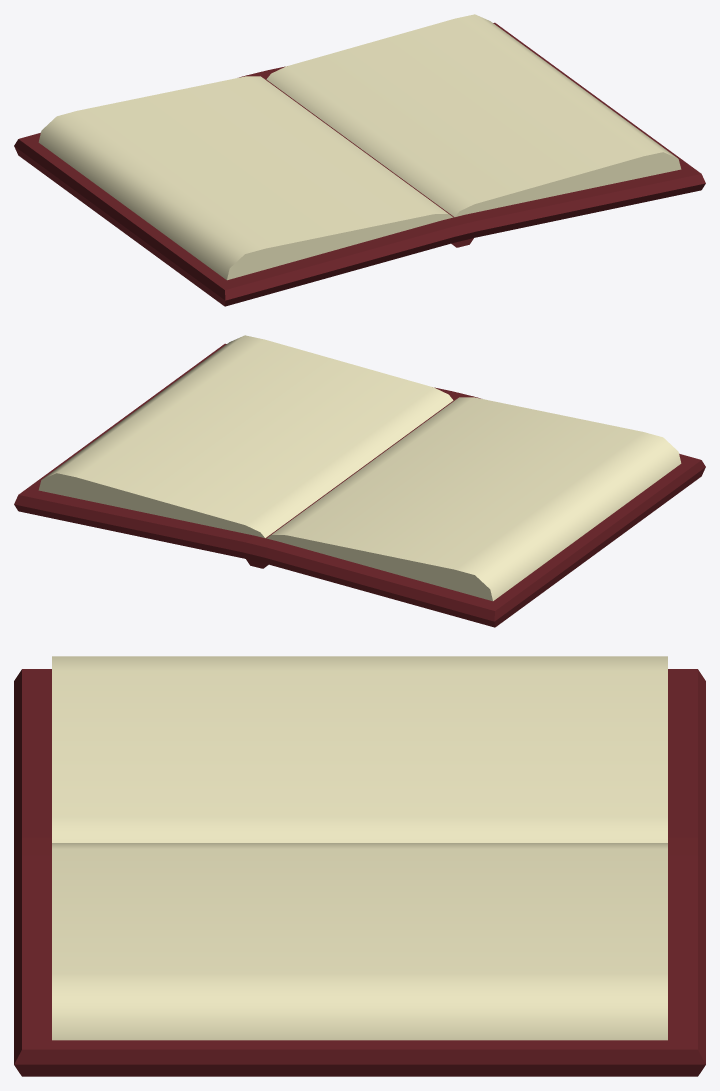
File: Book.fbx
The picture shows the model from 3 angles, top to bottom: view 1: azimuth 30°, elevation 25°; view 2: azimuth 150°, elevation 25°; view 3: azimuth 270°, elevation 25°; orthographic projection. The views are drawn at different scales.
Visible parts, largest first — view 1: Book_Paper, Book_Cover; view 2: Book_Paper, Book_Cover; view 3: Book_Paper, Book_Cover.
Part boxes in pixels (left/top/right/bottom): Book_Paper: left=38, top=14, right=681, bottom=280; Book_Cover: left=14, top=22, right=705, bottom=306; Book_Paper: left=38, top=335, right=681, bottom=601; Book_Cover: left=14, top=343, right=705, bottom=627; Book_Paper: left=52, top=656, right=667, bottom=1040; Book_Cover: left=14, top=669, right=705, bottom=1076.
Bounding box in the file's own units: 94.93 × 7.41 × 72.36.
